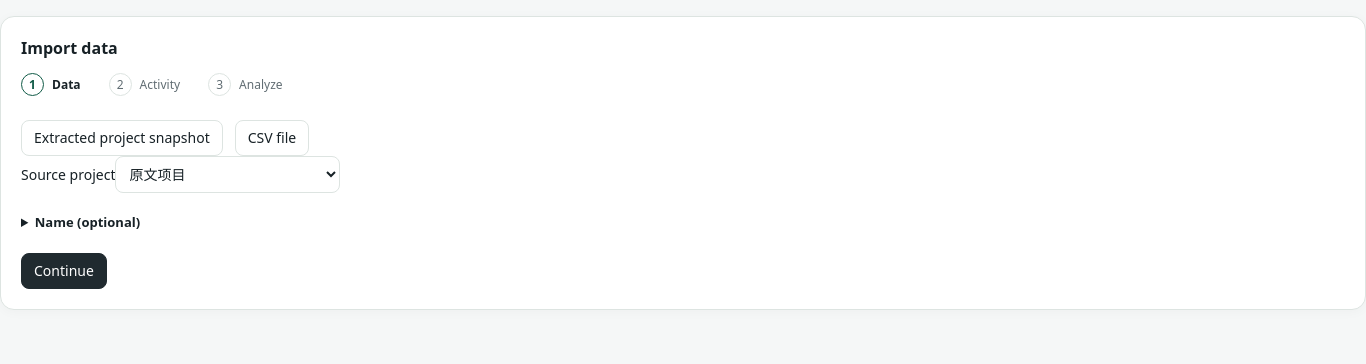
Test: two explicit SAR intake choices › guides the project choice with one next action and keeps the optional name out of the initial form
This screenshot has width=1366, height=364.
Expected: the field labelled "Dataset title" is not shown
Expected: the button "Continue" is enabled, [21,253,107,289]
Click the heading "Name (optional)".
click(88, 222)  # box [35,213,140,231]
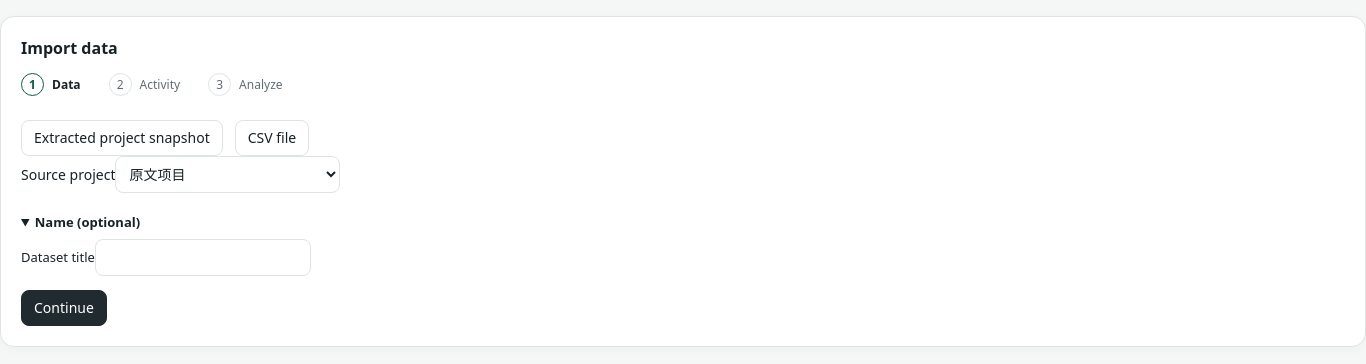
Expected: the field labelled "Dataset title" is shown, [95,239,311,276]
